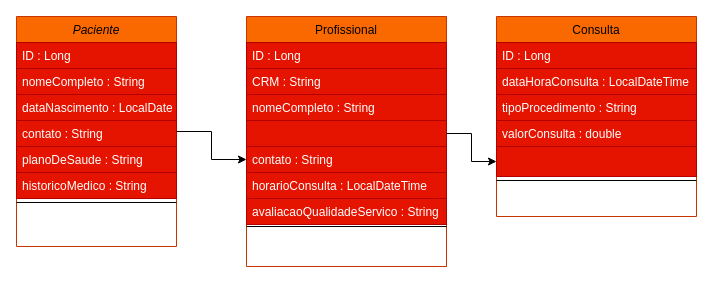
Some shapes in this 713 by 283 pixel diagram are drawn without their labels. Here are the shapes that lost their labels. From the top down, the centre of each, then its label:
the point at 346,133: especialidadeOdontologica : String
the point at 596,161: status : String
